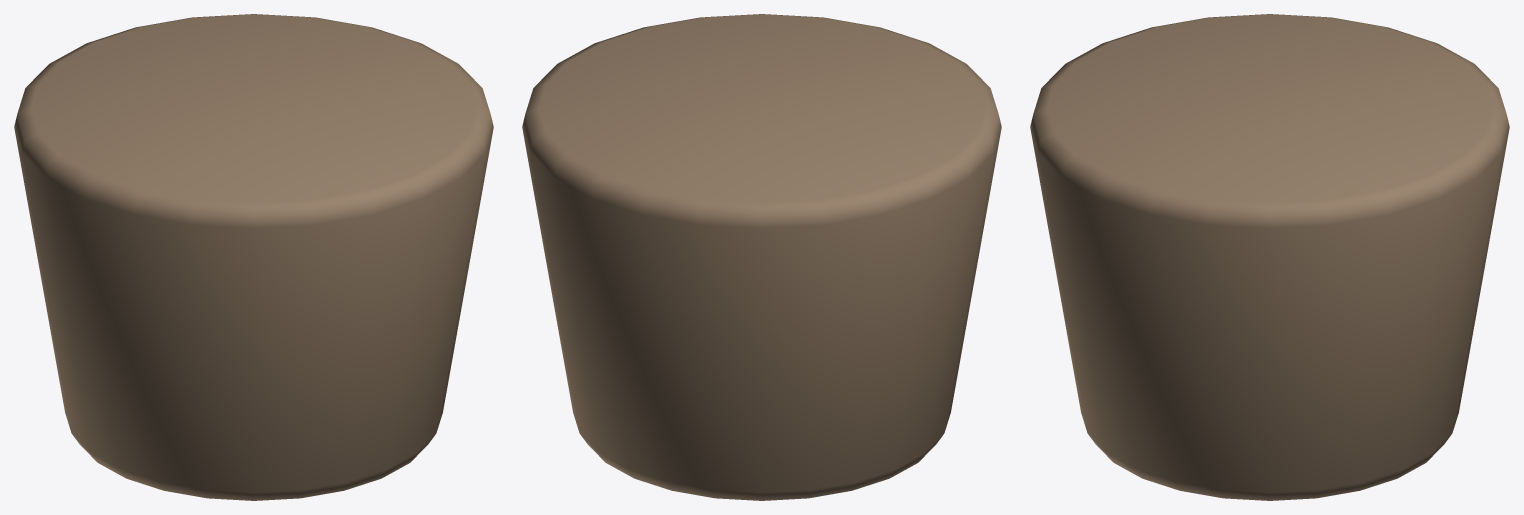
The model's file is NormalLid.fbx.
3 renders of one model, left to right at view 1: azimuth 30°, elevation 25°; view 2: azimuth 150°, elevation 25°; view 3: azimuth 270°, elevation 25°, orthographic.
Parts seen in each view (by area): view 1: BottleLid; view 2: BottleLid; view 3: BottleLid.
Boxes of the visible parts, x1,y1,x2,y2 form: BottleLid: (14,14,493,500); BottleLid: (522,14,1001,500); BottleLid: (1030,14,1509,500).
Size of the model in its own units: 40.02 by 29.56 by 40.02.
